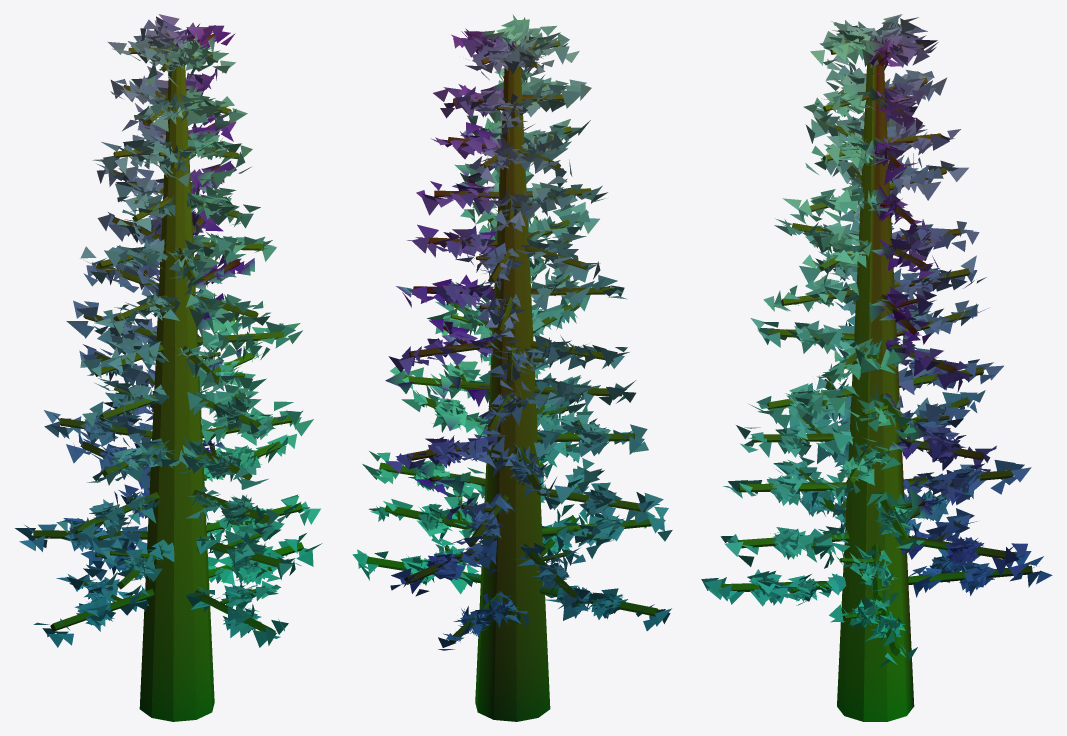
Rendered from ecological_conifer_mature_02.glb.
The picture shows the model from 3 angles, left to right: view 1: azimuth 30°, elevation 25°; view 2: azimuth 150°, elevation 25°; view 3: azimuth 270°, elevation 25°; orthographic projection.
Parts seen in each view (by area): view 1: ecological_conifer_mature_02; view 2: ecological_conifer_mature_02; view 3: ecological_conifer_mature_02.
Boxes of the visible parts, x1,y1,x2,y2 form: ecological_conifer_mature_02: [15, 14, 322, 721]; ecological_conifer_mature_02: [352, 14, 672, 721]; ecological_conifer_mature_02: [701, 14, 1052, 721].
Bounding box in the file's own units: 17.07 × 36.51 × 17.13.
